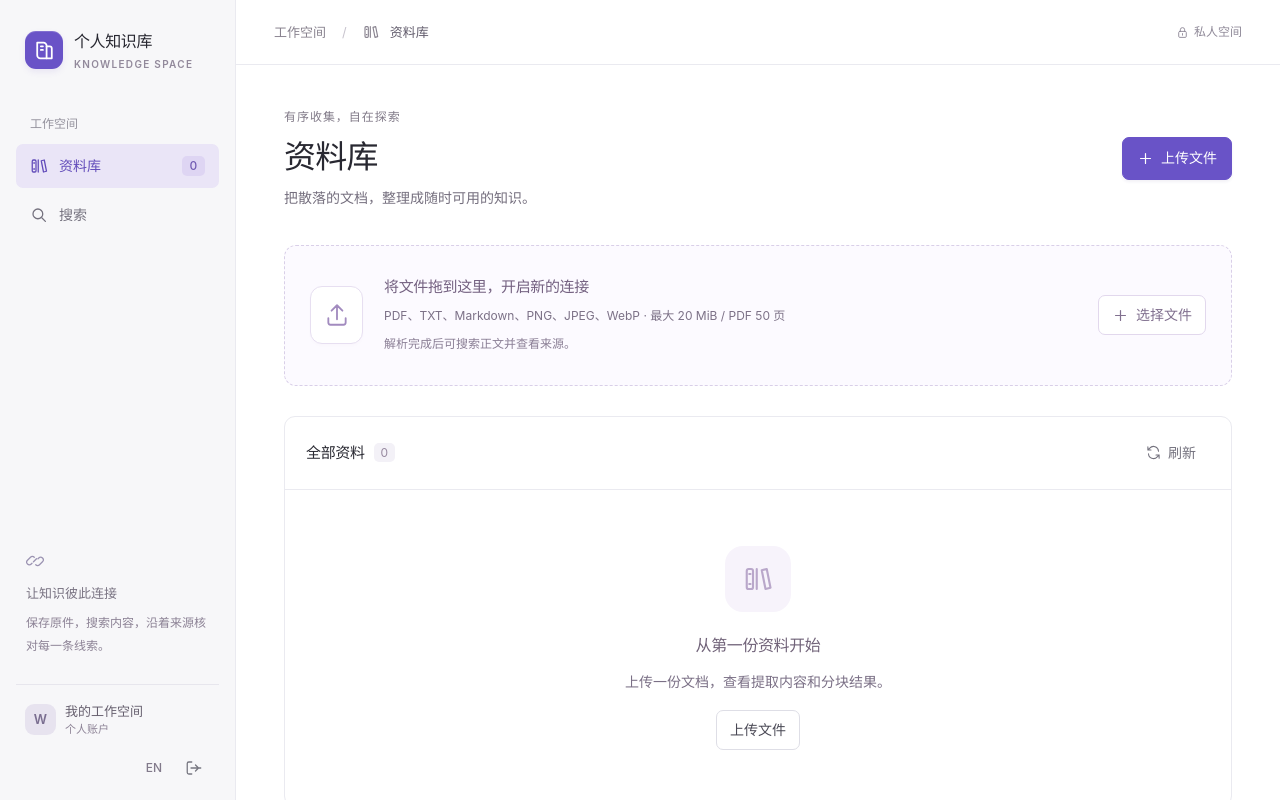
Scenario: Document workspace › searches chunks and opens the selected source after the document loads
The image size is (1280, 800).
Step 1. Click the button "搜索" → (118, 215), box [16,193,219,238]
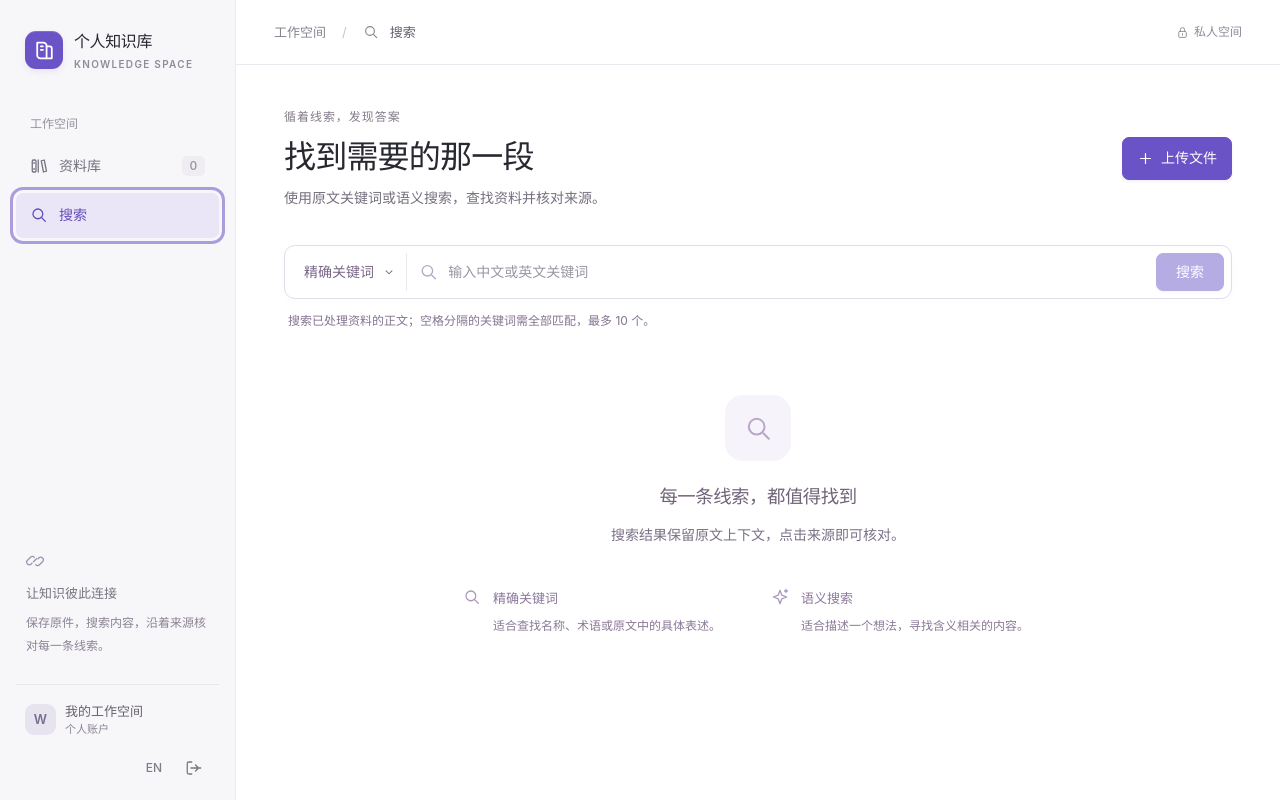
Step 2. Select "精确关键词" in the dropdown named "搜索模式" → (350, 272), box [292,253,407,291]
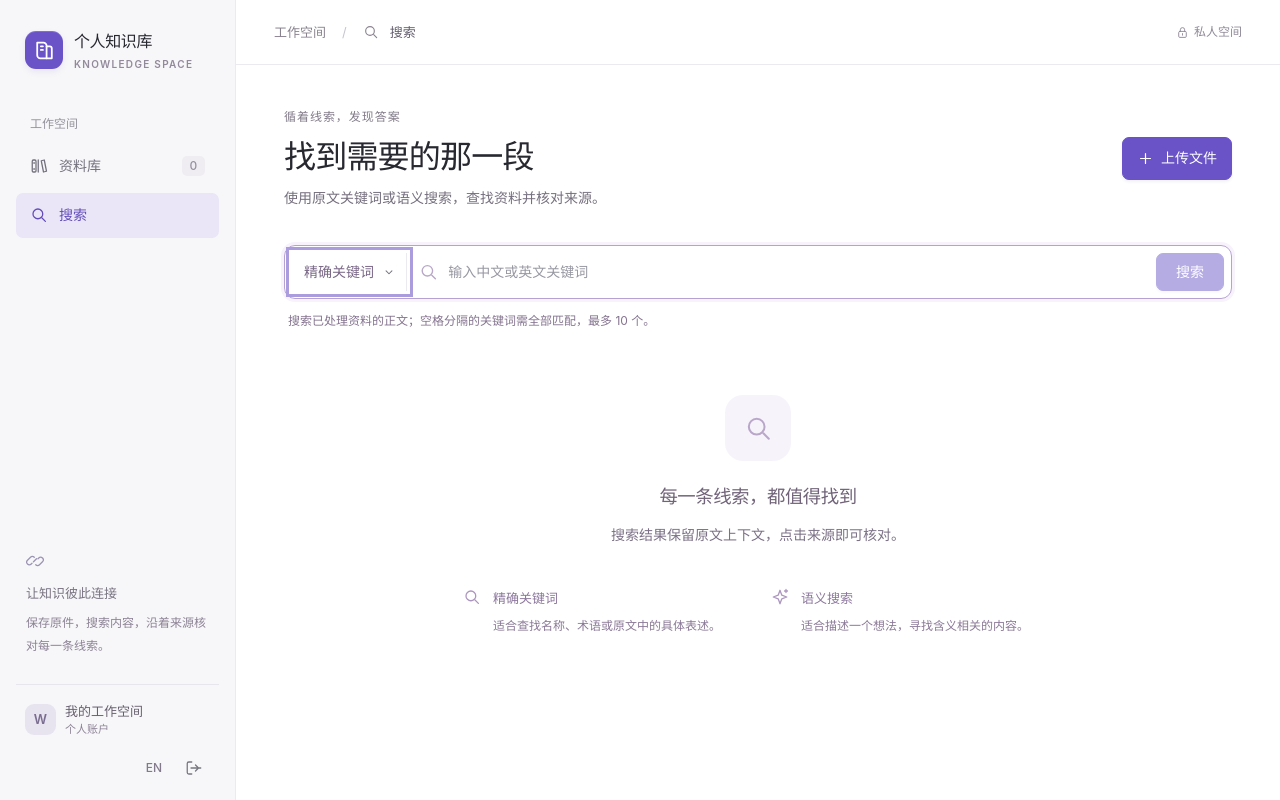
Step 3. Type "滤网" into the search field → (798, 272), box [448,254,1147,290]
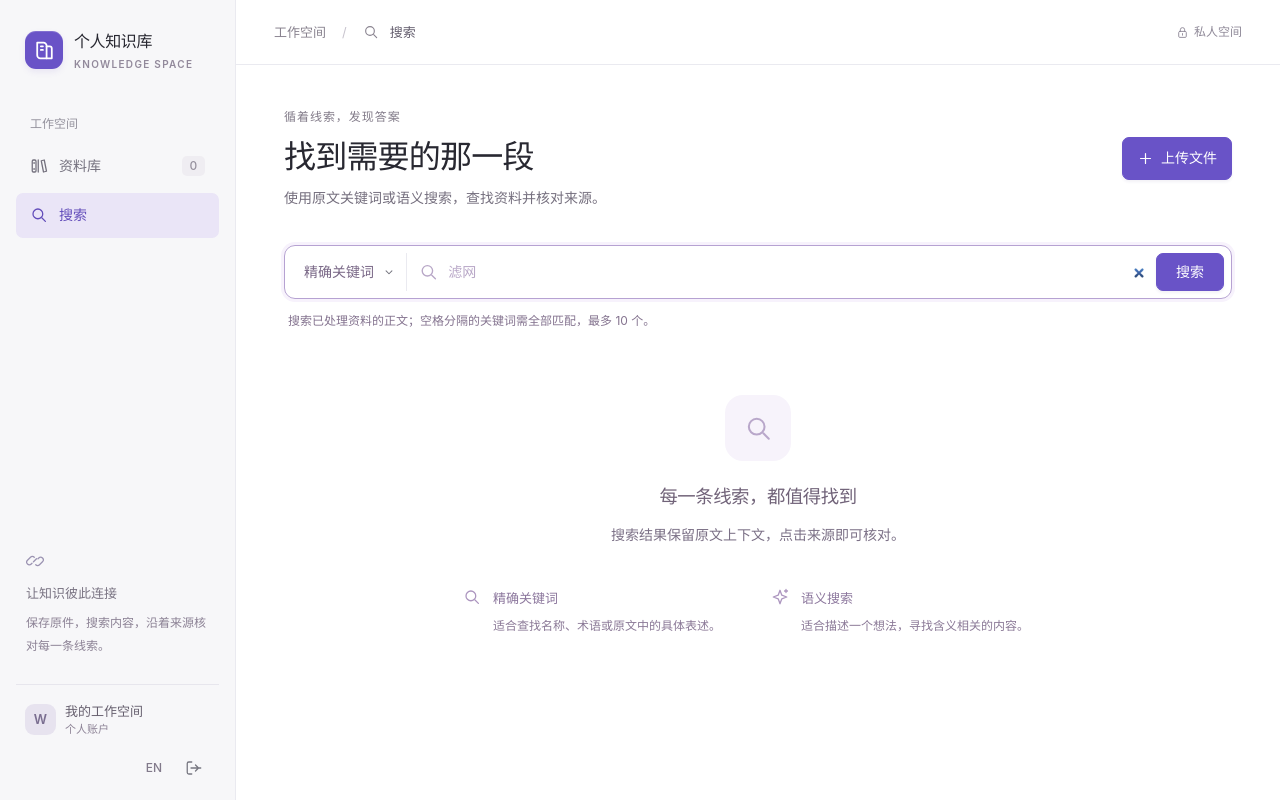
Step 4. Click the button "搜索" below "私人空间" → (1190, 272), box [1156,253,1224,291]
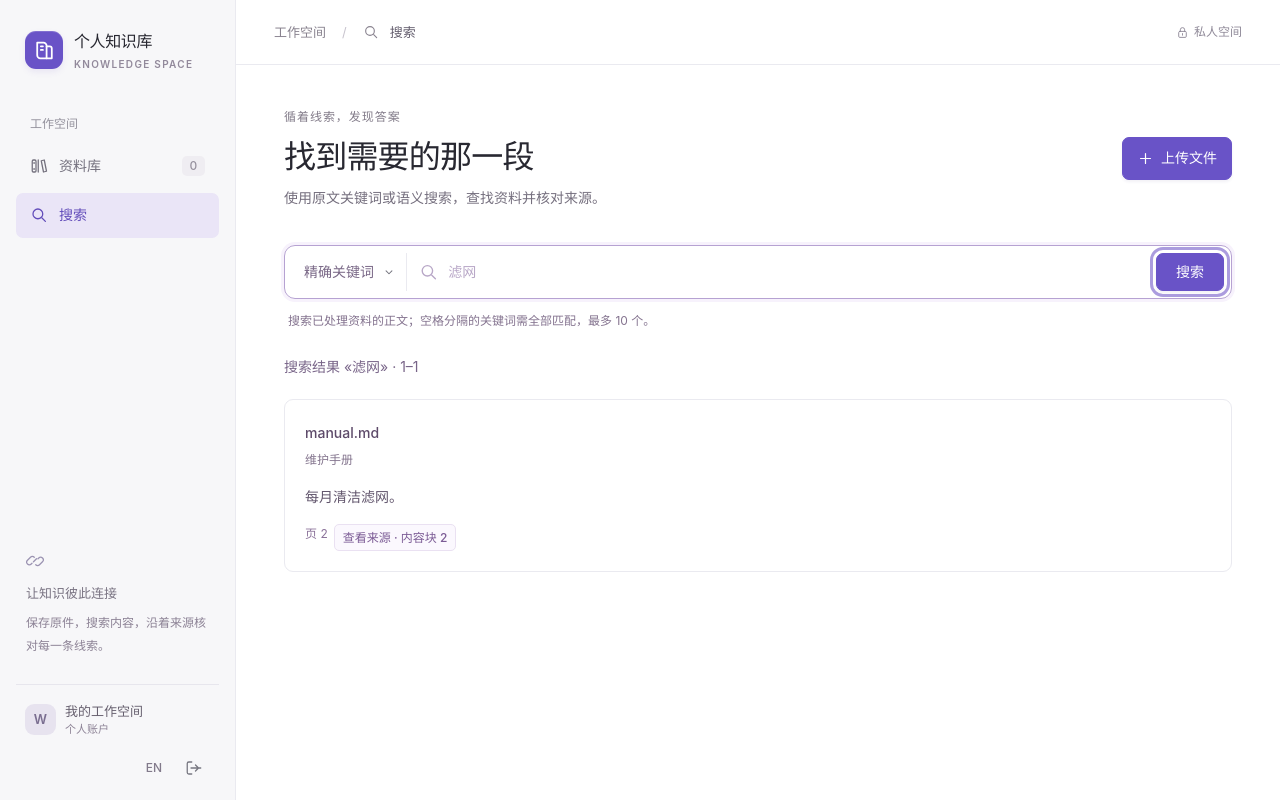
Step 5. Click the button "查看来源 · 内容块 2" → (395, 538), box [334,524,456,551]
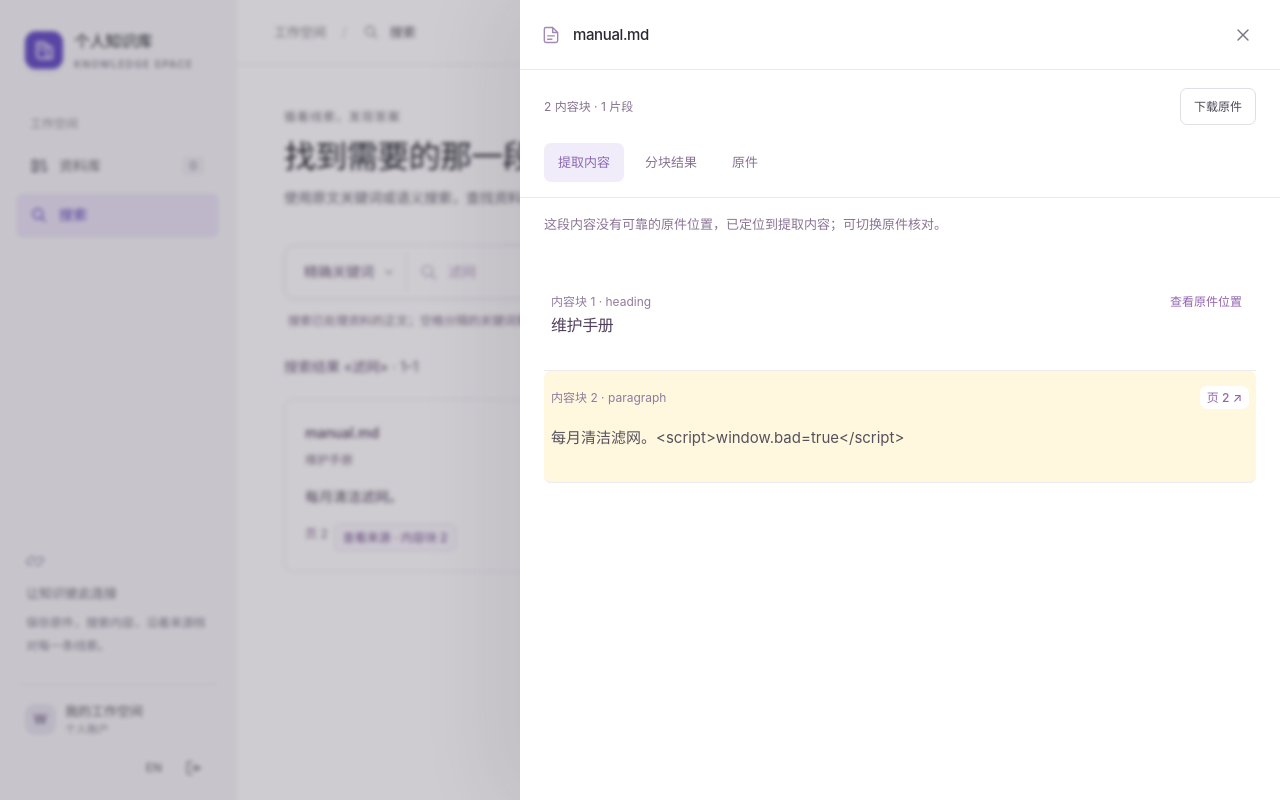
Expected: the element with class "highlighted" shows "每月清洁滤网", [551,428,904,447]
